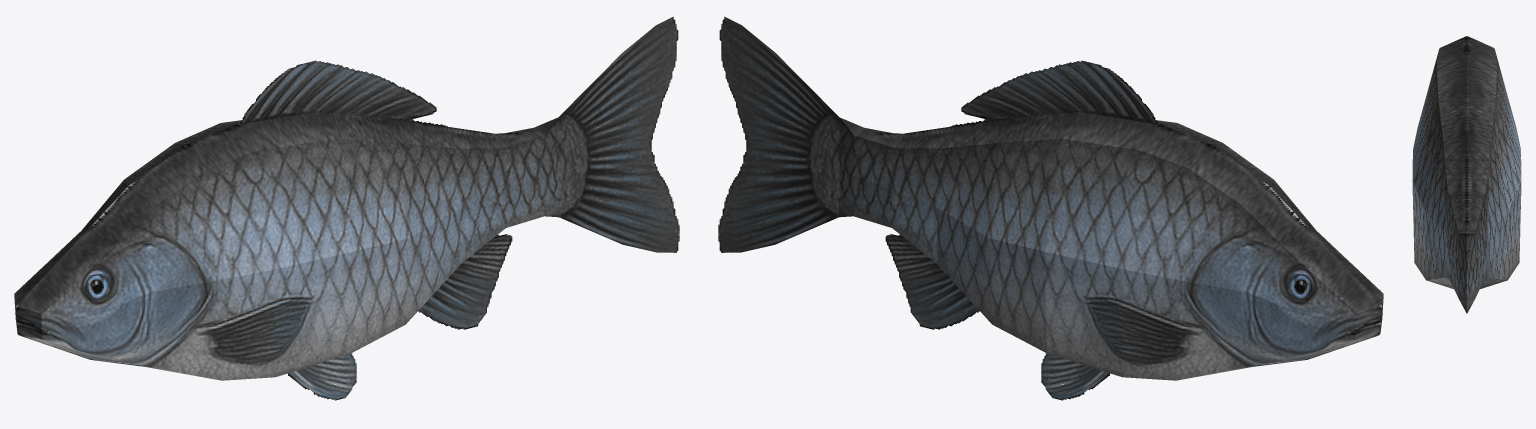
Rendered from Silkenscale.fbx.
3 views of the same model, side by side, from view 1: azimuth 30°, elevation 25°; view 2: azimuth 150°, elevation 25°; view 3: azimuth 270°, elevation 25° (orthographic). The views are drawn at different scales.
Parts seen in each view (by area): view 1: Carp; view 2: Carp; view 3: Carp.
Boxes of the visible parts, x1,y1,x2,y2 form: Carp: (14, 16, 679, 400); Carp: (718, 16, 1383, 400); Carp: (1412, 36, 1521, 313).
Size of the model in its own units: 164 by 86.16 by 28.79.
1 material, 1 textured.
